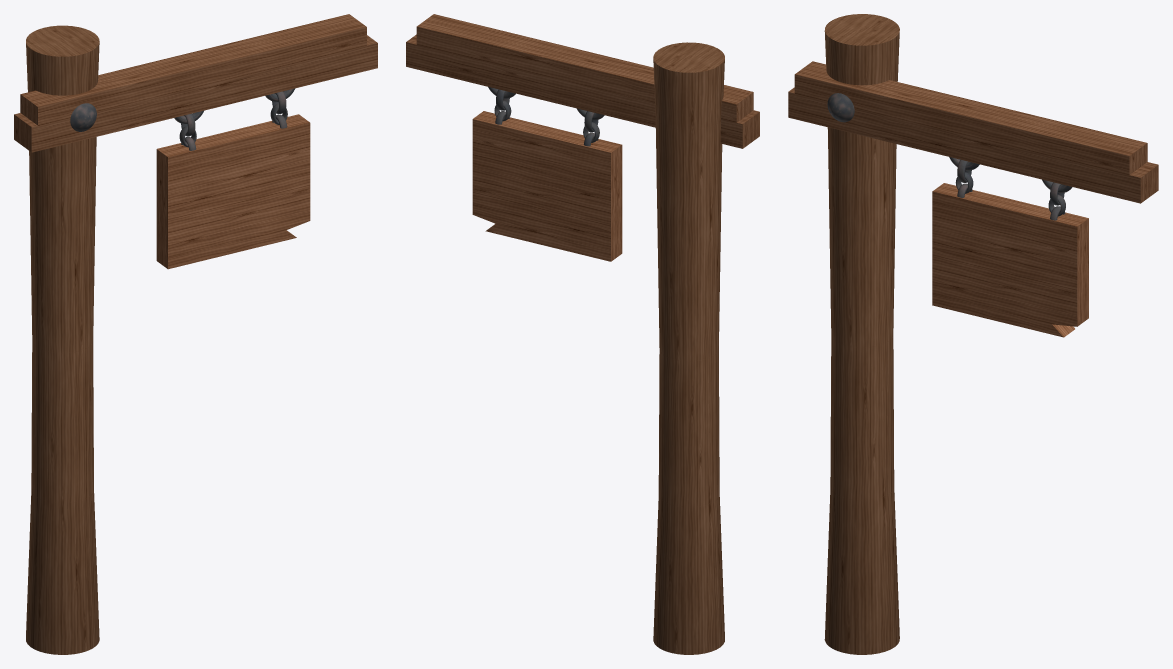
File: Board.glb
The picture shows the model from 3 angles, left to right: view 1: azimuth 30°, elevation 25°; view 2: azimuth 150°, elevation 25°; view 3: azimuth 330°, elevation 25°; orthographic projection. The views are drawn at different scales.
Parts seen in each view (by area): view 1: Board; view 2: Board; view 3: Board.
Part boxes in pixels (left/top/right/bottom): Board: left=14, top=14, right=377, bottom=654; Board: left=406, top=14, right=759, bottom=654; Board: left=788, top=14, right=1158, bottom=654.
Size of the model in its own units: 3.69 by 6.1 by 0.8147.
Materials: 2 (2 with a texture image).
